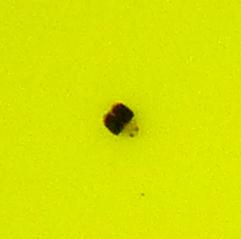Coleoptera: (100, 100, 141, 139)
